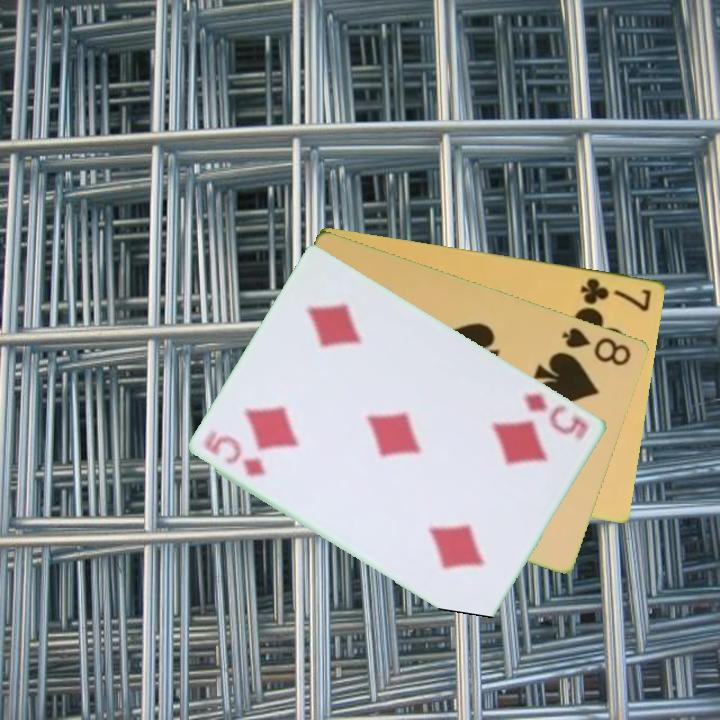5d: (521, 389, 593, 444), (201, 426, 269, 480)
7c: (577, 274, 655, 314)
8s: (559, 323, 635, 369)
